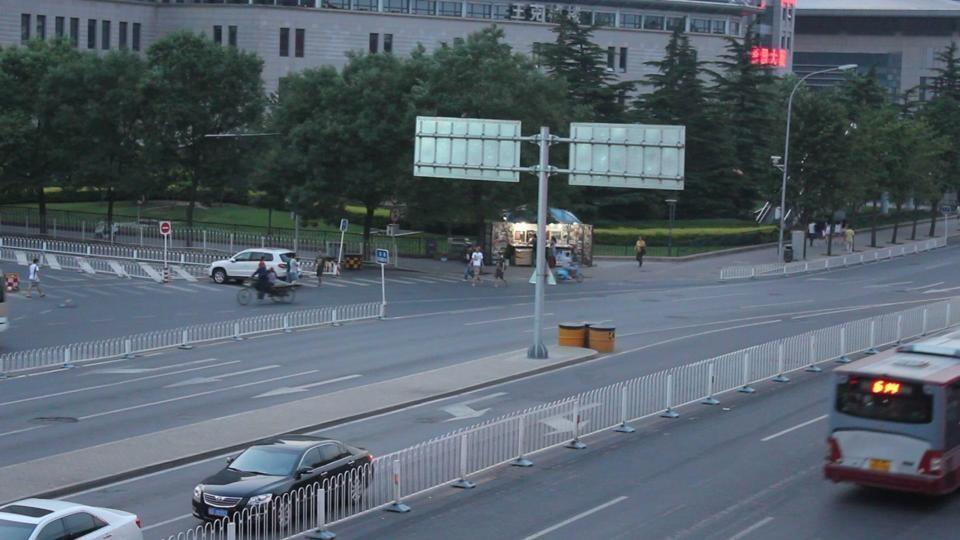car: (190, 437, 376, 523), (0, 495, 144, 539), (208, 248, 301, 284)
